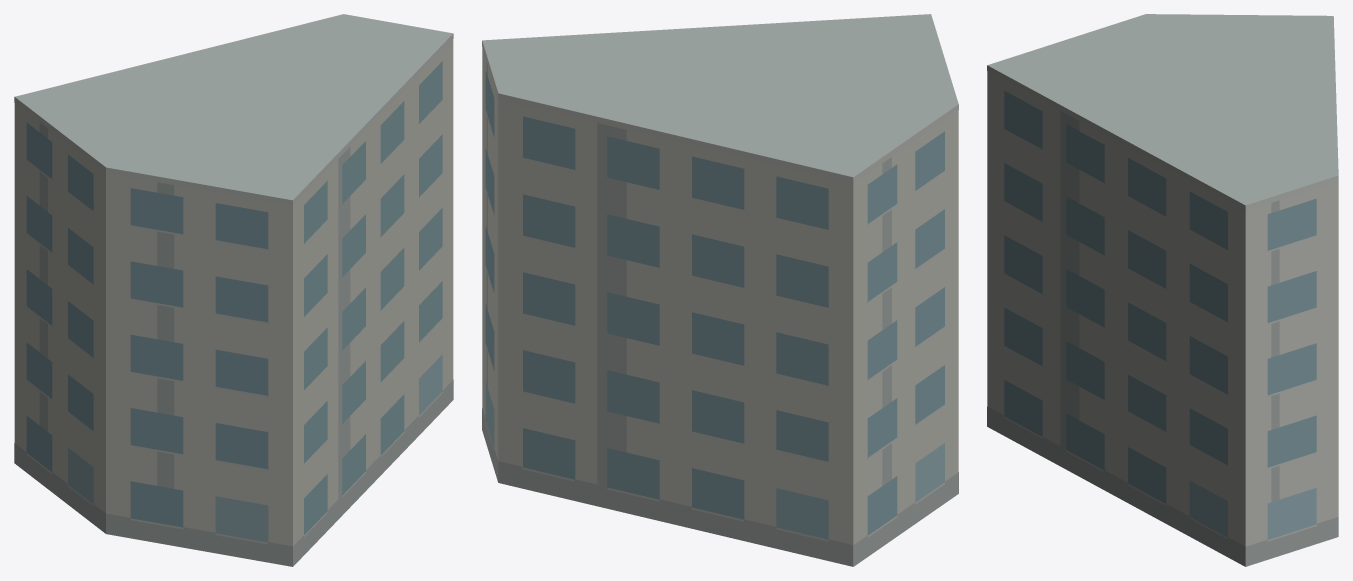
File: residential-5acd54fb-4f93-4b7a-8d31-e6e88d4ab84f.glb
The picture shows the model from 3 angles, left to right: view 1: azimuth 30°, elevation 25°; view 2: azimuth 150°, elevation 25°; view 3: azimuth 270°, elevation 25°; orthographic projection. The views are drawn at different scales.
Parts seen in each view (by area): view 1: residential-5acd54fb-4f93-4b7a-8d31-e6e88d4ab84f.tmp; view 2: residential-5acd54fb-4f93-4b7a-8d31-e6e88d4ab84f.tmp; view 3: residential-5acd54fb-4f93-4b7a-8d31-e6e88d4ab84f.tmp.
Boxes of the visible parts, x1,y1,x2,y2 form: residential-5acd54fb-4f93-4b7a-8d31-e6e88d4ab84f.tmp: (14,14,453,566); residential-5acd54fb-4f93-4b7a-8d31-e6e88d4ab84f.tmp: (482,14,958,566); residential-5acd54fb-4f93-4b7a-8d31-e6e88d4ab84f.tmp: (987,14,1338,566).
Bounding box in the file's own units: 17.5 × 15.4 × 13.58.
